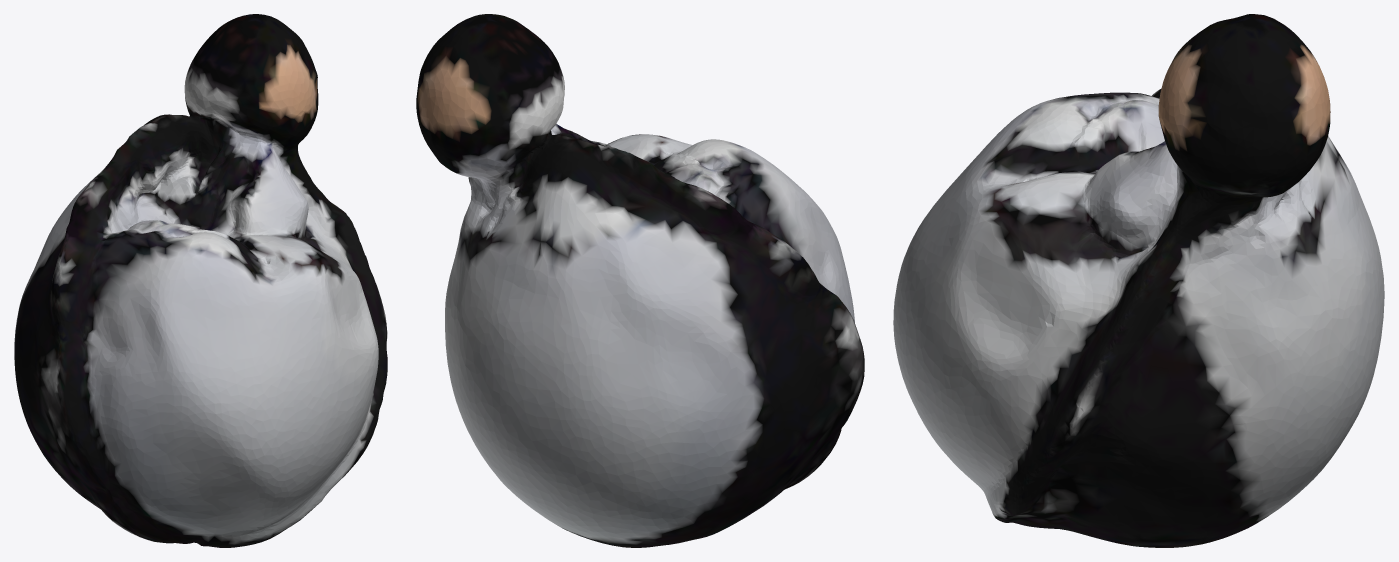
The model's file is potion_aether.glb.
3 views of the same model, side by side, from view 1: azimuth 30°, elevation 25°; view 2: azimuth 150°, elevation 25°; view 3: azimuth 270°, elevation 25° (orthographic). The views are drawn at different scales.
Parts seen in each view (by area): view 1: geometry_0; view 2: geometry_0; view 3: geometry_0.
Boxes of the visible parts, x1,y1,x2,y2 form: geometry_0: (14, 14, 387, 547); geometry_0: (416, 14, 864, 547); geometry_0: (893, 14, 1384, 547).
Bounding box in the file's own units: 0.375 × 0.4911 × 0.379.
